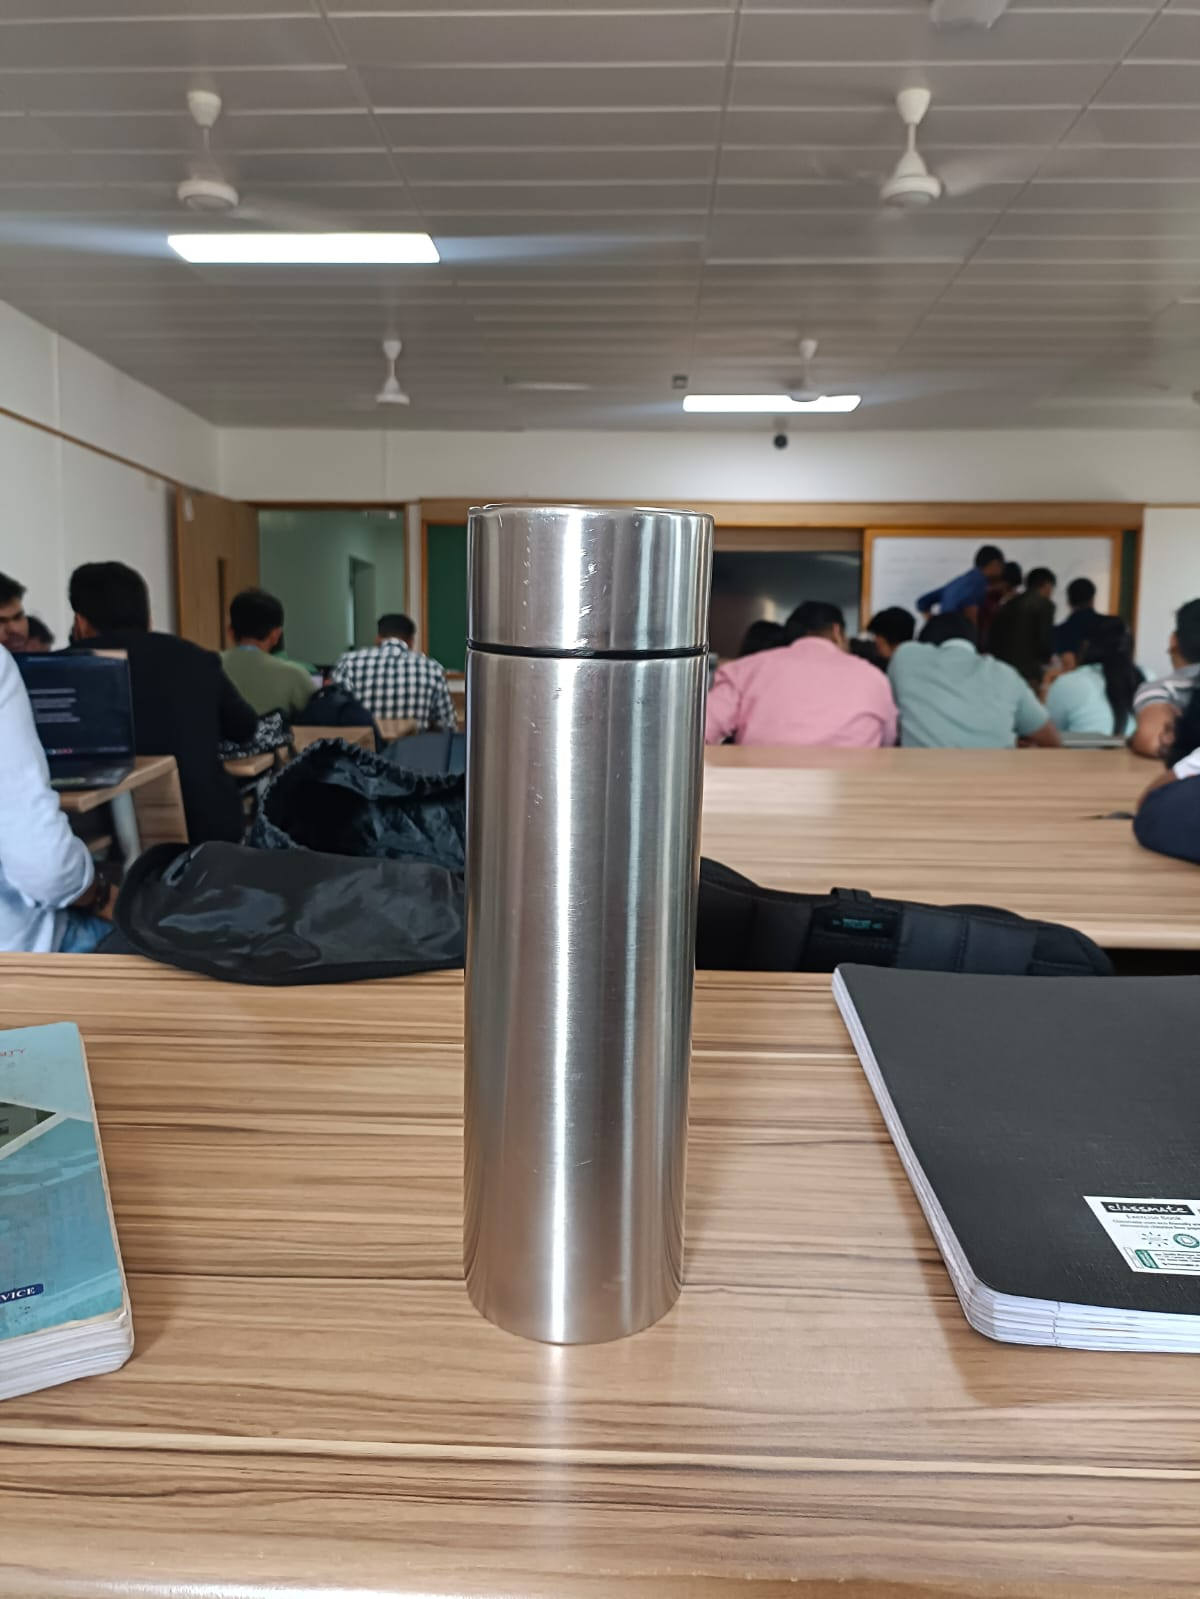bottle: (444, 496, 732, 1373)
